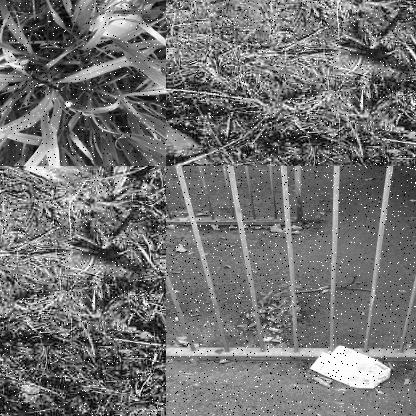metal: (97, 0, 165, 49)
plastic: (305, 345, 397, 394), (326, 46, 403, 90), (58, 247, 135, 290)
